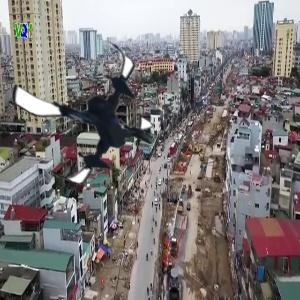drone: (10, 36, 163, 189)
